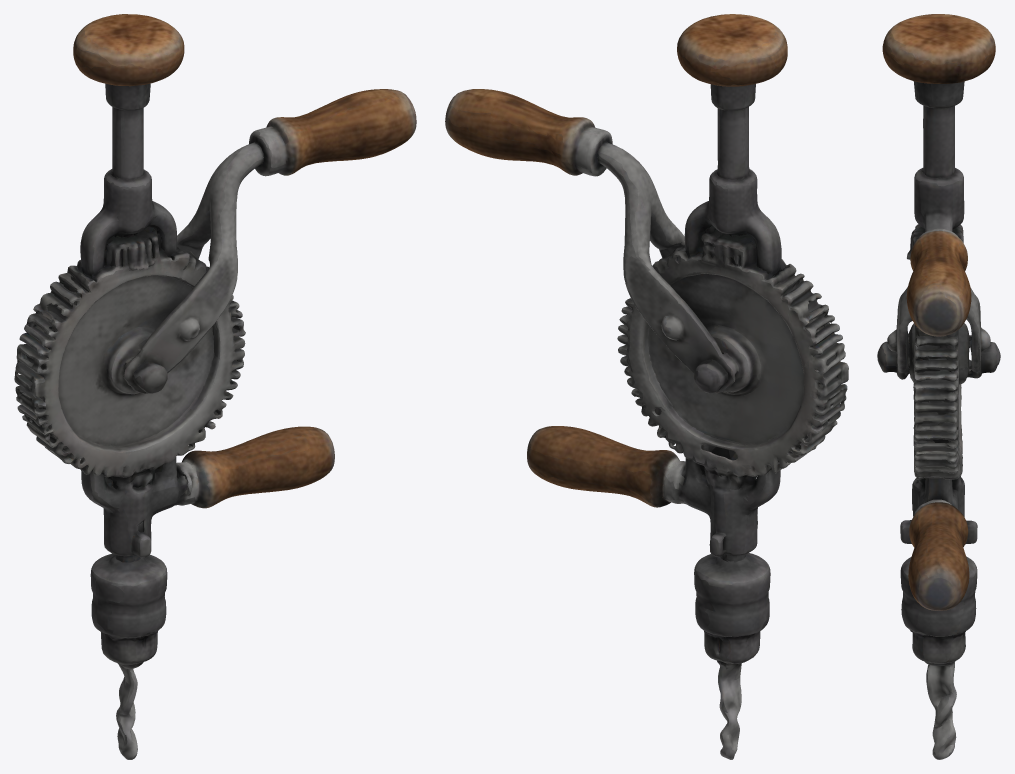
File: parts.glb
3 views of the same model, side by side, from view 1: azimuth 30°, elevation 25°; view 2: azimuth 150°, elevation 25°; view 3: azimuth 270°, elevation 25° (orthographic).
Size of the model in its own units: 0.2491 by 0.45 by 0.0689.
6 materials, 6 textured.
